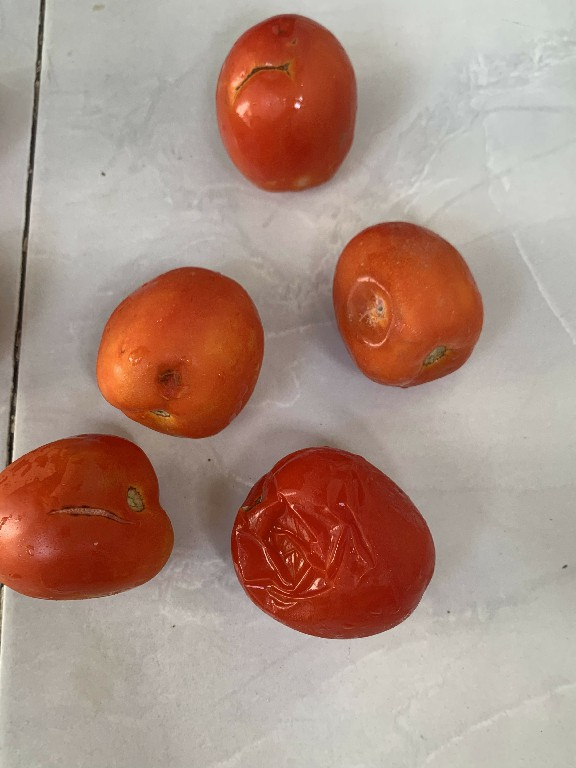NG: (229, 439, 444, 646), (0, 418, 185, 604), (204, 7, 380, 198), (319, 209, 495, 398), (96, 264, 268, 435)
